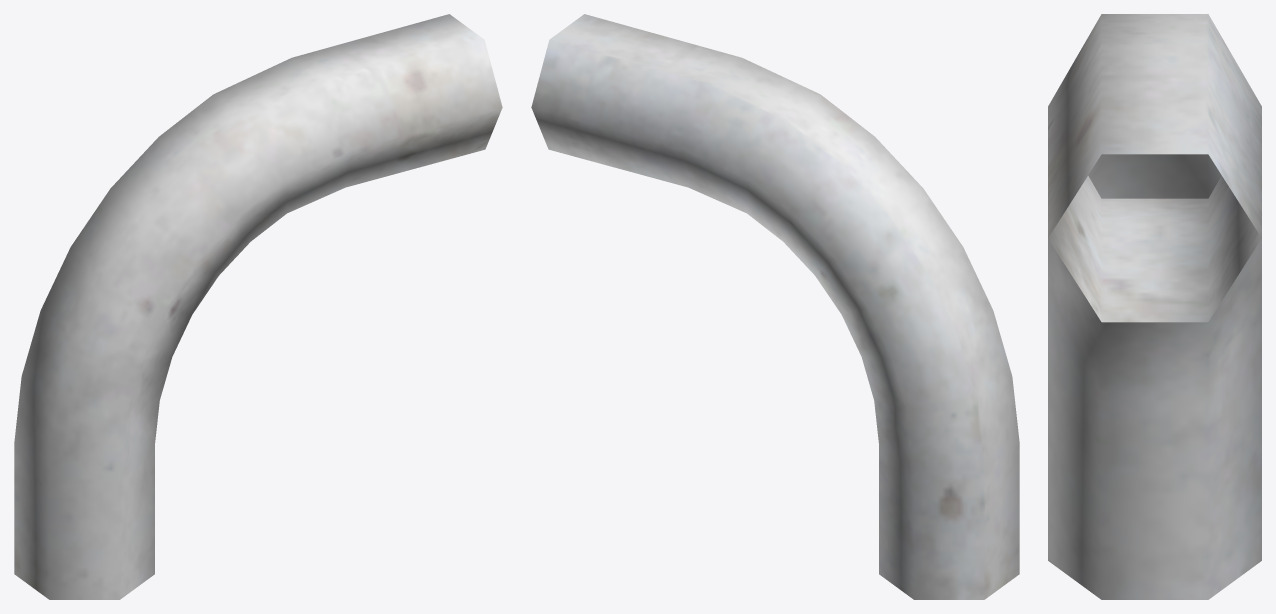
Rendered from SM_Wires_Pipes_01b.glb.
3 views of the same model, side by side, from view 1: azimuth 30°, elevation 25°; view 2: azimuth 150°, elevation 25°; view 3: azimuth 270°, elevation 25° (orthographic). The views are drawn at different scales.
Visible parts, largest first — view 1: SM_Wires_Pipes_01b; view 2: SM_Wires_Pipes_01b; view 3: SM_Wires_Pipes_01b.
Part boxes in pixels (box(x1,y1,x2,y2)): SM_Wires_Pipes_01b: box(14, 14, 502, 599); SM_Wires_Pipes_01b: box(531, 14, 1019, 599); SM_Wires_Pipes_01b: box(1048, 14, 1261, 599).
Size of the model in its own units: 0.1127 by 0.1122 by 0.0315.
Materials: 1 (1 with a texture image).
